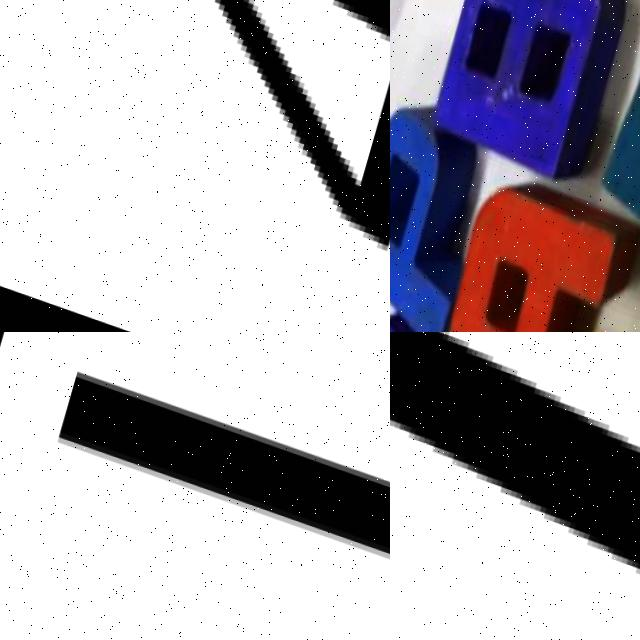A: (430, 161, 636, 332)
B: (417, 0, 630, 193)
D: (583, 0, 640, 295)
J: (0, 356, 390, 640)
L: (390, 332, 640, 640)
P: (390, 91, 509, 332)
